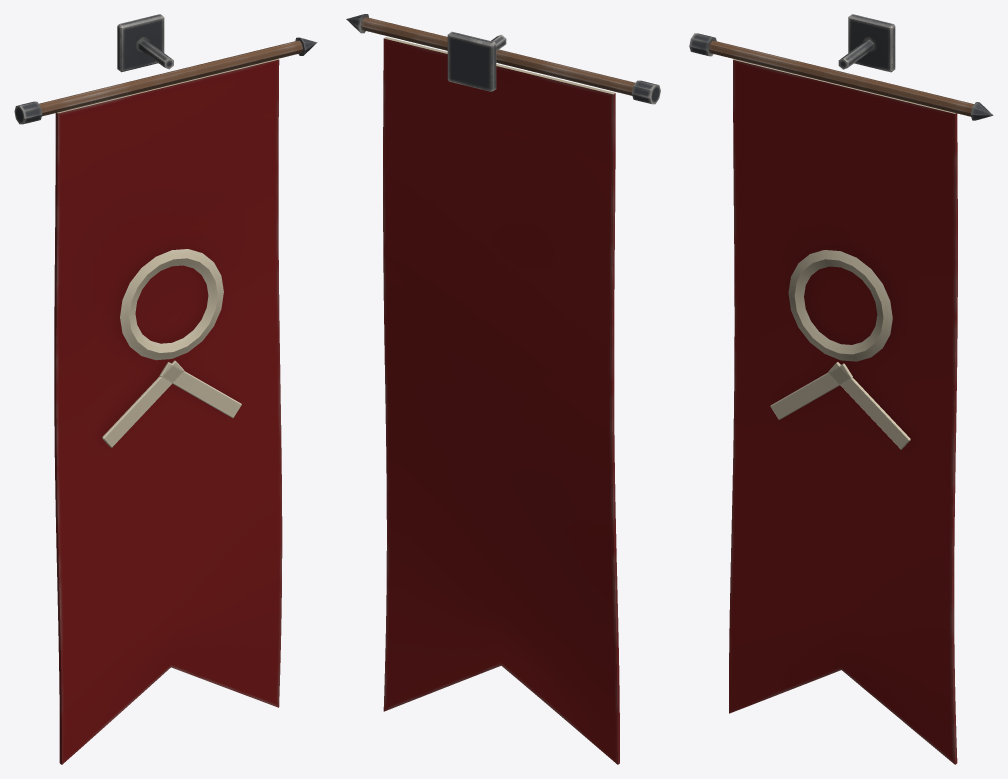
Rendered from gallows_banner_long_crimson.glb.
3 renders of one model, left to right at view 1: azimuth 30°, elevation 25°; view 2: azimuth 150°, elevation 25°; view 3: azimuth 330°, elevation 25°, orthographic. The views are drawn at different scales.
Parts seen in each view (by area): view 1: gallows_banner_long_crimson; view 2: gallows_banner_long_crimson; view 3: gallows_banner_long_crimson.
Boxes of the visible parts, left/top/right/bottom form: gallows_banner_long_crimson: left=14, top=14, right=317, bottom=764; gallows_banner_long_crimson: left=346, top=14, right=660, bottom=764; gallows_banner_long_crimson: left=689, top=14, right=993, bottom=764.
Bounding box in the file's own units: 2.02 × 4.5 × 0.41.
Materials: 1 (1 with a texture image).
